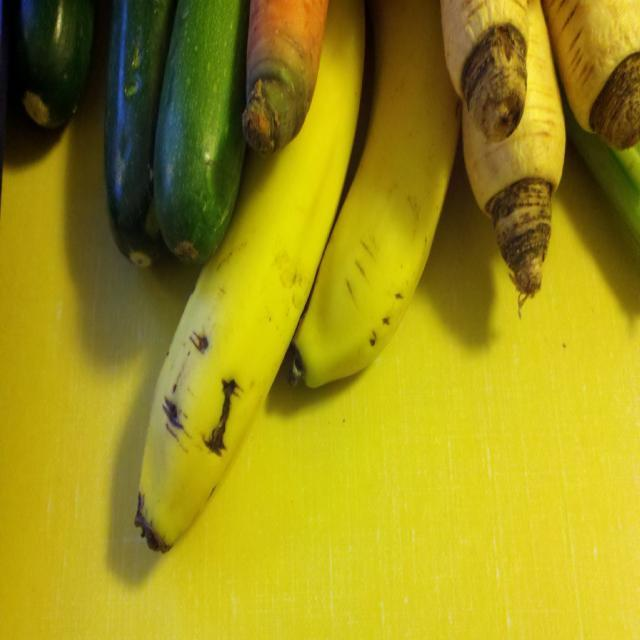Banana: (135, 16, 345, 566), (287, 0, 464, 392)
